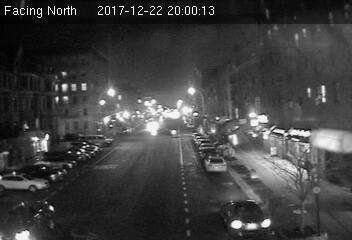car: (220, 200, 274, 238), (205, 154, 227, 173)
